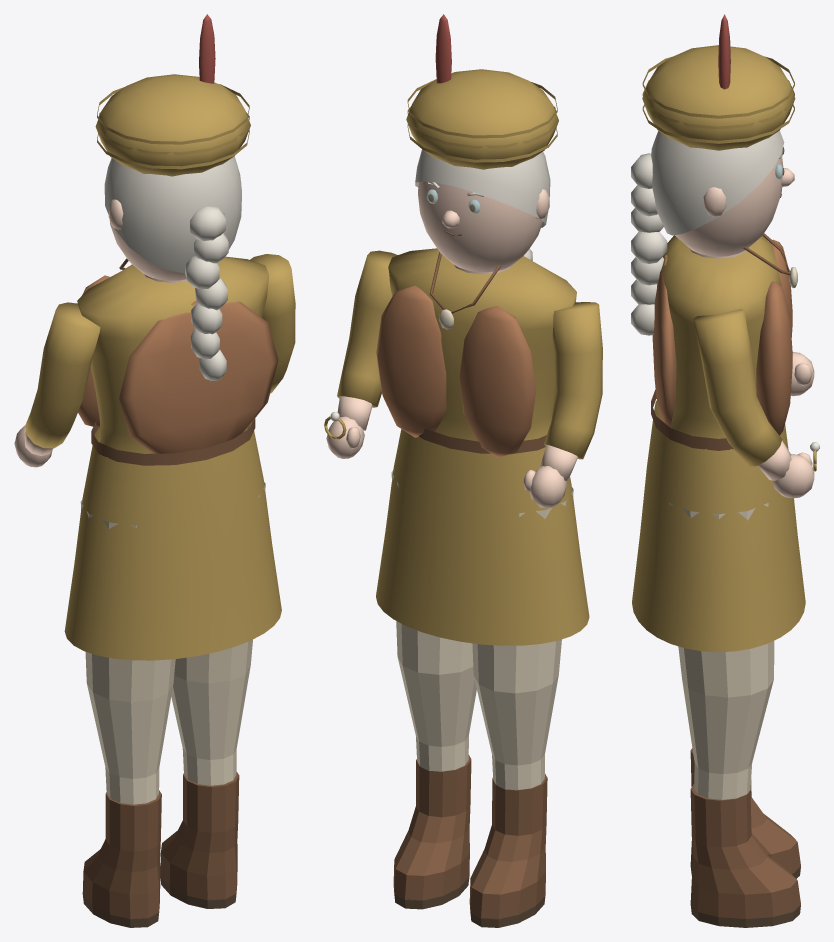
The model's file is SM_NPC_PERLA.glb.
3 views of the same model, side by side, from view 1: azimuth 30°, elevation 25°; view 2: azimuth 150°, elevation 25°; view 3: azimuth 270°, elevation 25° (orthographic). The views are drawn at different scales.
Parts seen in each view (by area): view 1: SM_NPC_PERLA_BODY, SM_NPC_PERLA_HAIR, SM_NPC_PERLA_LEG_L, SM_NPC_PERLA_LEG_R, SM_NPC_PERLA_ARM_L, SM_NPC_PERLA_ARM_R, SM_NPC_PERLA_HEAD; view 2: SM_NPC_PERLA_BODY, SM_NPC_PERLA_LEG_L, SM_NPC_PERLA_LEG_R, SM_NPC_PERLA_HAIR, SM_NPC_PERLA_ARM_L, SM_NPC_PERLA_HEAD, SM_NPC_PERLA_ARM_R; view 3: SM_NPC_PERLA_BODY, SM_NPC_PERLA_HAIR, SM_NPC_PERLA_LEG_R, SM_NPC_PERLA_ARM_R, SM_NPC_PERLA_HEAD, SM_NPC_PERLA_LEG_L, SM_NPC_PERLA_ARM_L.
Part boxes in pixels (x1,y1,x2,y2): SM_NPC_PERLA_BODY: (64, 256, 281, 660); SM_NPC_PERLA_HAIR: (95, 14, 250, 380); SM_NPC_PERLA_LEG_L: (80, 499, 175, 927); SM_NPC_PERLA_LEG_R: (160, 482, 265, 908); SM_NPC_PERLA_ARM_L: (14, 302, 100, 467); SM_NPC_PERLA_ARM_R: (250, 254, 295, 393); SM_NPC_PERLA_HEAD: (108, 182, 241, 280); SM_NPC_PERLA_BODY: (376, 248, 589, 645); SM_NPC_PERLA_LEG_L: (469, 487, 573, 927); SM_NPC_PERLA_LEG_R: (391, 470, 476, 909); SM_NPC_PERLA_HAIR: (406, 14, 558, 260); SM_NPC_PERLA_ARM_L: (523, 302, 602, 508); SM_NPC_PERLA_HEAD: (418, 181, 549, 272); SM_NPC_PERLA_ARM_R: (324, 250, 397, 458); SM_NPC_PERLA_BODY: (632, 233, 805, 652); SM_NPC_PERLA_HAIR: (631, 14, 795, 335); SM_NPC_PERLA_LEG_R: (669, 503, 800, 927); SM_NPC_PERLA_ARM_R: (693, 309, 819, 498); SM_NPC_PERLA_HEAD: (675, 153, 794, 256); SM_NPC_PERLA_LEG_L: (690, 748, 800, 878); SM_NPC_PERLA_ARM_L: (790, 352, 814, 396).
Bounding box in the file's own units: 0.6008 × 2.01 × 0.3833.
